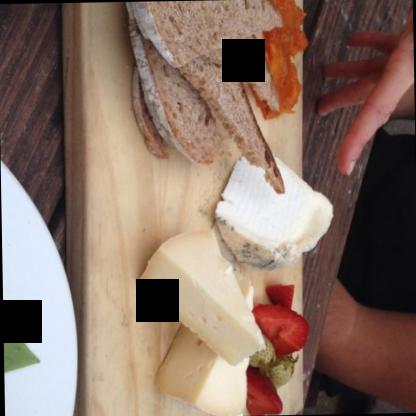parmesan cheese: (144, 227, 260, 363), (160, 282, 247, 416)
